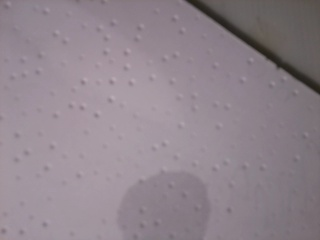Water_detected: (126, 175, 189, 240)
